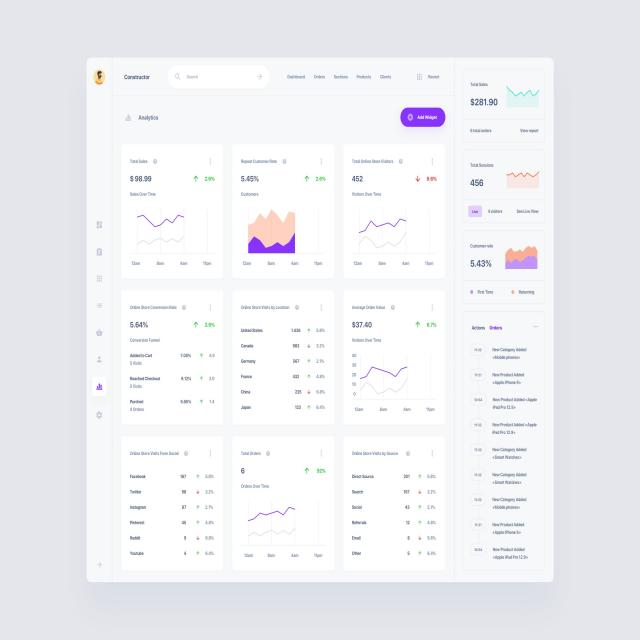button: (400, 108, 446, 127)
input: (167, 64, 270, 90)
